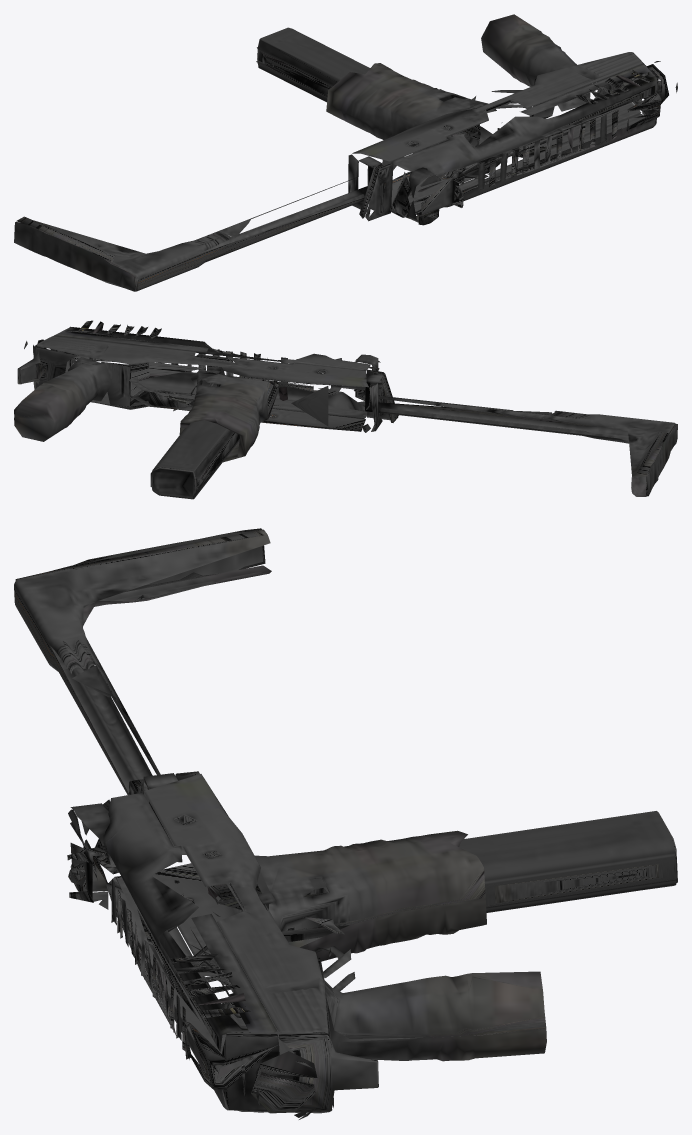
The picture shows the model from 3 angles, top to bottom: view 1: azimuth 30°, elevation 25°; view 2: azimuth 150°, elevation 25°; view 3: azimuth 270°, elevation 25°; orthographic projection. The views are drawn at different scales.
Visible parts, largest first — view 1: p_tmp; view 2: p_tmp; view 3: p_tmp.
Boxes of the visible parts, box(x1,y1,x2,y2) form: p_tmp: box(14, 14, 677, 291); p_tmp: box(14, 320, 677, 499); p_tmp: box(14, 528, 677, 1119).
Size of the model in its own units: 0.7396 by 0.064 by 0.3943.
1 material, 1 textured.
